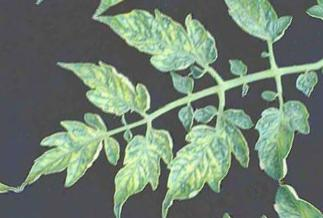Tomato leaf yellow virus: (133, 99, 269, 218), (92, 0, 228, 98), (9, 104, 125, 203), (51, 38, 157, 138), (88, 121, 194, 218), (241, 90, 323, 183), (217, 0, 298, 58)
